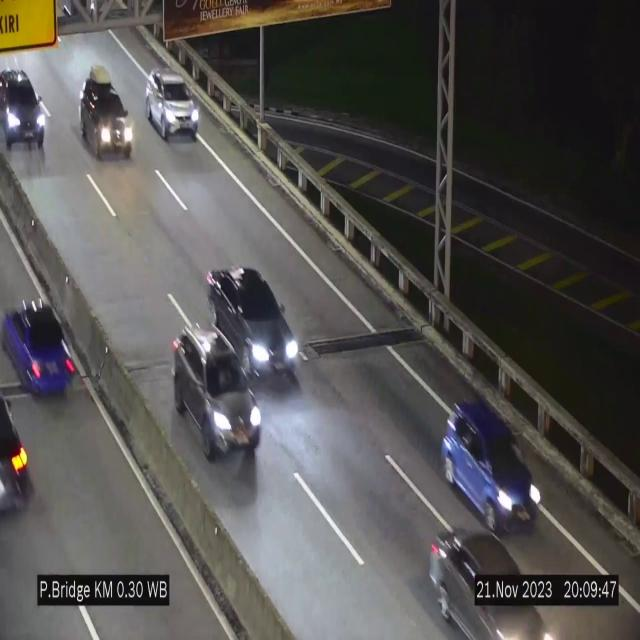Car: (427, 512, 549, 640), (442, 393, 541, 532), (170, 322, 262, 462), (204, 258, 303, 388), (1, 284, 83, 406), (0, 370, 50, 525), (74, 60, 134, 166), (0, 62, 44, 150), (145, 71, 199, 141)
